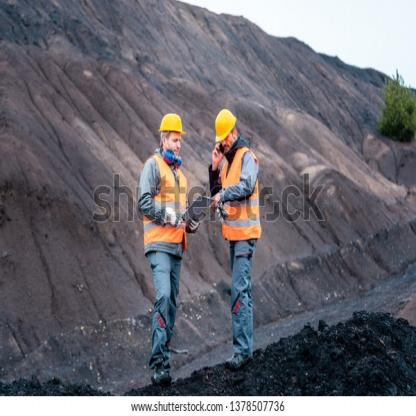person: (206, 90, 272, 378), (137, 84, 195, 385)
